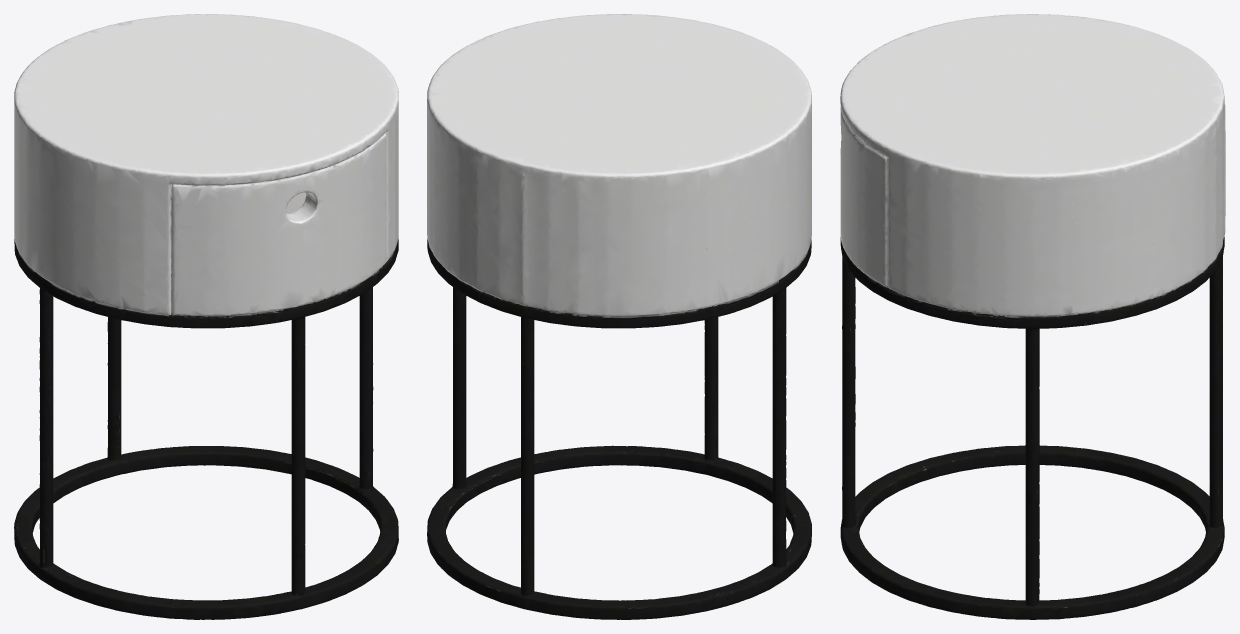
The model's file is hugge-102923-trellis2-q8-pbr.glb.
The picture shows the model from 3 angles, left to right: view 1: azimuth 30°, elevation 25°; view 2: azimuth 150°, elevation 25°; view 3: azimuth 270°, elevation 25°; orthographic projection.
Visible parts, largest first — view 1: 0; view 2: 0; view 3: 0.
Boxes of the visible parts, left/top/right/bottom form: 0: left=14, top=14, right=398, bottom=619; 0: left=427, top=14, right=811, bottom=619; 0: left=840, top=14, right=1225, bottom=619.
Bounding box in the file's own units: 0.4 × 0.51 × 0.4.
1 material, 1 textured.
